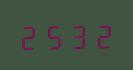five: (42, 20, 65, 50)
three: (66, 19, 89, 49)
two: (18, 20, 41, 50), (90, 19, 113, 49)
